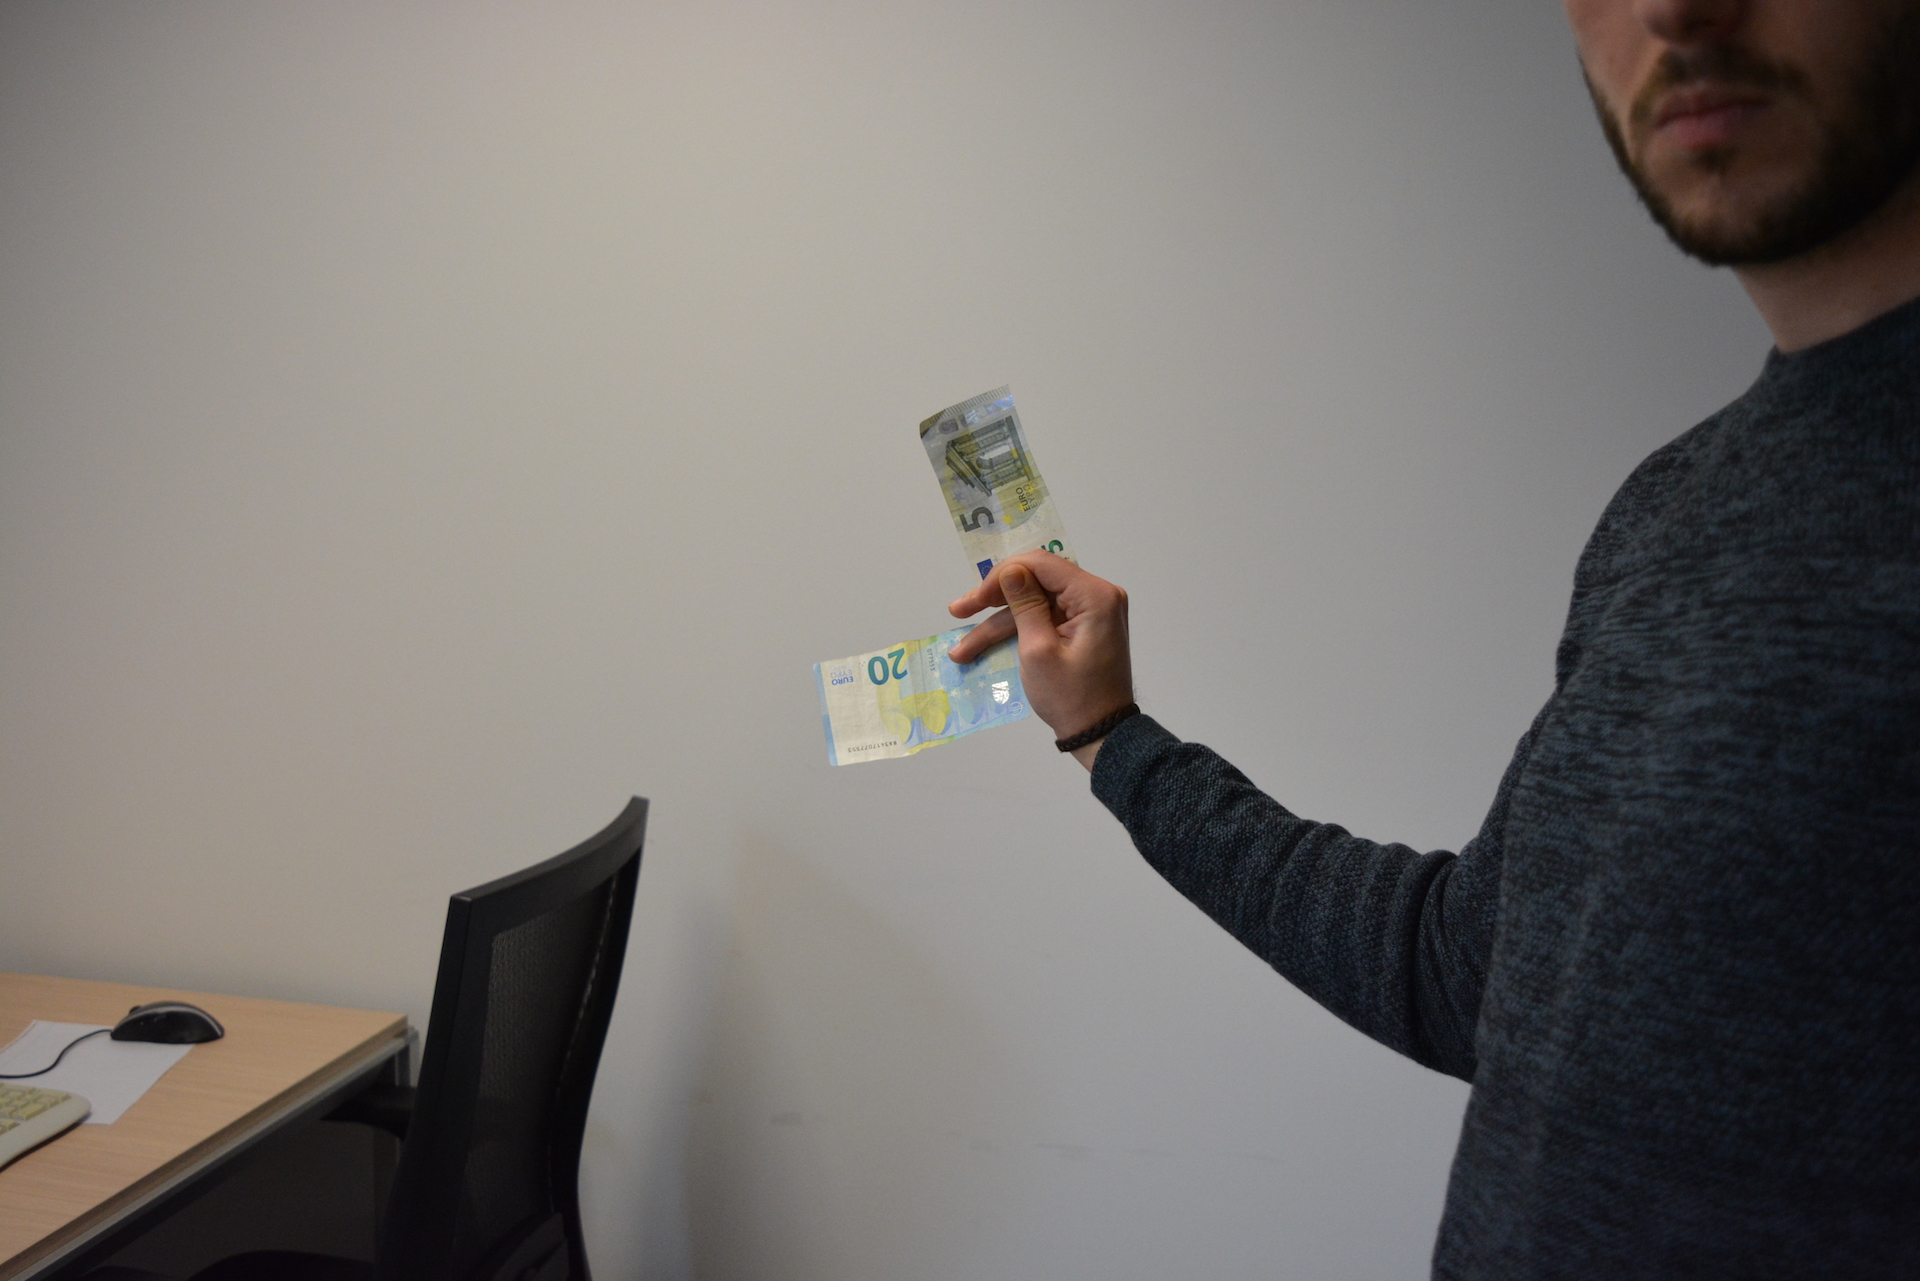billete: (811, 619, 1041, 771), (918, 380, 1075, 588)
